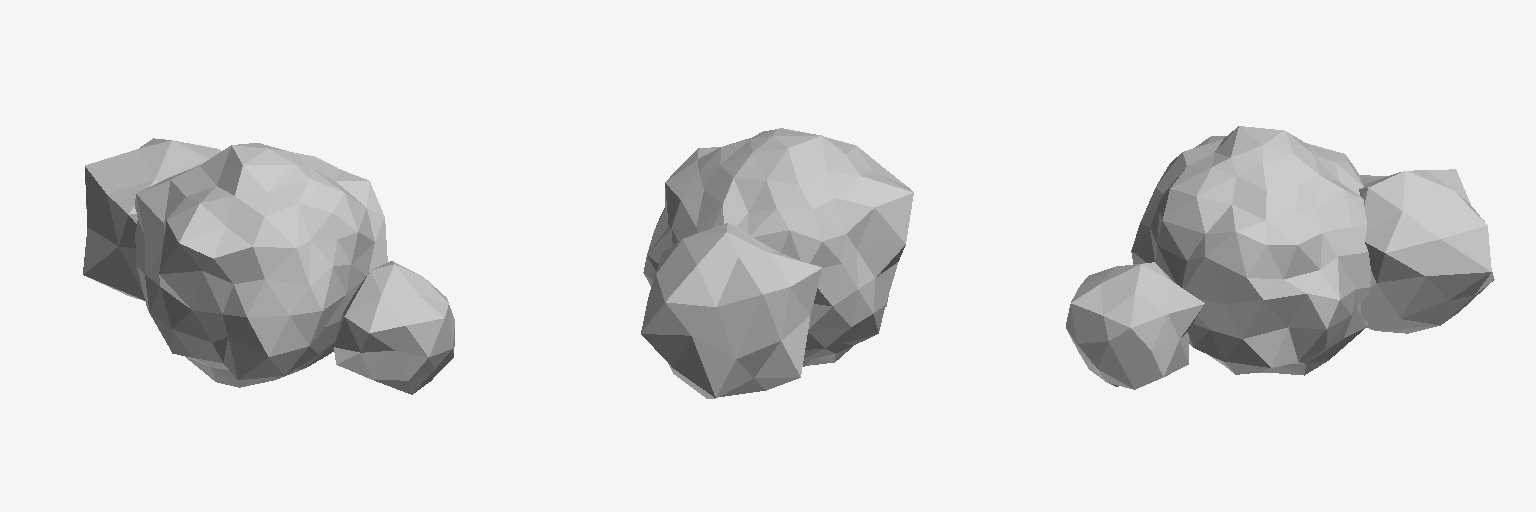
The model's file is cloud_3.obj.
3 renders of one model, left to right at view 1: azimuth 30°, elevation 25°; view 2: azimuth 150°, elevation 25°; view 3: azimuth 270°, elevation 25°, orthographic.
Parts seen in each view (by area): view 1: cloud_3; view 2: cloud_3; view 3: cloud_3.
Part boxes in pixels (x1,y1,x2,y2): cloud_3: (83, 138, 454, 394); cloud_3: (641, 128, 913, 398); cloud_3: (1066, 126, 1494, 389).
Bounding box in the file's own units: 3.14 × 2.93 × 4.97.